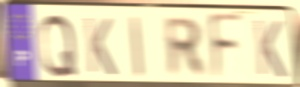F: (207, 11, 245, 85)
I: (129, 14, 146, 80)
K: (252, 18, 288, 81), (82, 15, 118, 78)
Q: (38, 13, 79, 80)
R: (161, 15, 209, 80)
